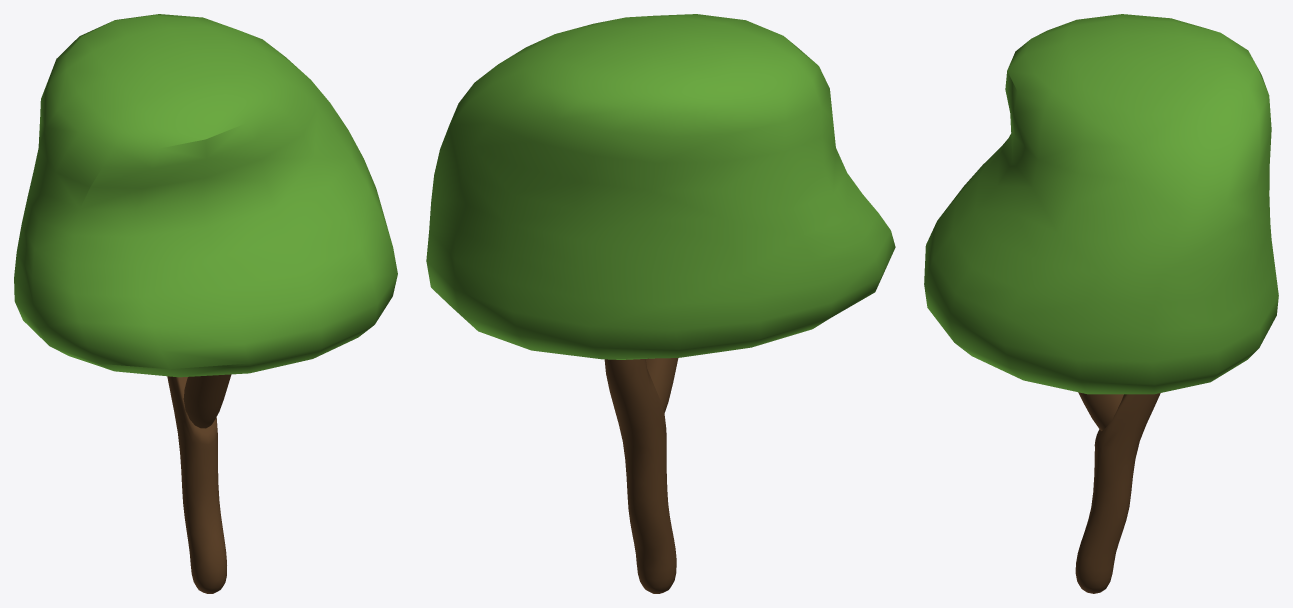
File: Tree 5.fbx
3 renders of one model, left to right at view 1: azimuth 30°, elevation 25°; view 2: azimuth 150°, elevation 25°; view 3: azimuth 270°, elevation 25°, orthographic. The views are drawn at different scales.
Visible parts, largest first — view 1: Cube_3, Cube; view 2: Cube_3, Cube; view 3: Cube_3, Cube.
Boxes of the visible parts, x1,y1,x2,y2 form: Cube_3: [14, 14, 397, 377]; Cube: [167, 374, 231, 593]; Cube_3: [426, 14, 895, 359]; Cube: [604, 358, 678, 593]; Cube_3: [924, 14, 1278, 394]; Cube: [1075, 392, 1160, 593].
Bounding box in the file's own units: 517 × 733 × 438.
